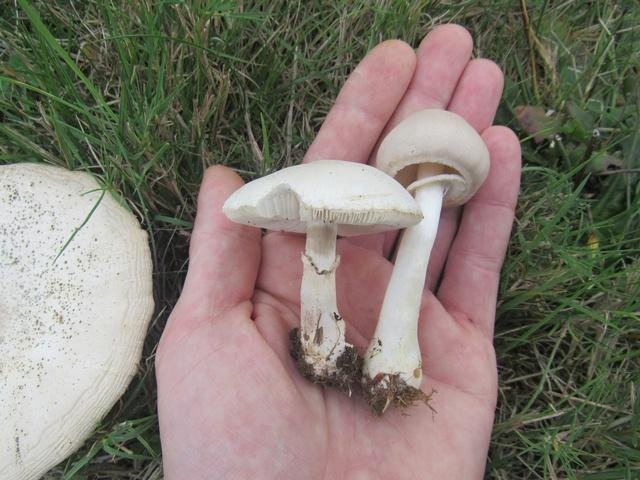Non-edible Mushroom: (0, 152, 150, 480), (220, 157, 424, 392), (360, 107, 491, 413)
